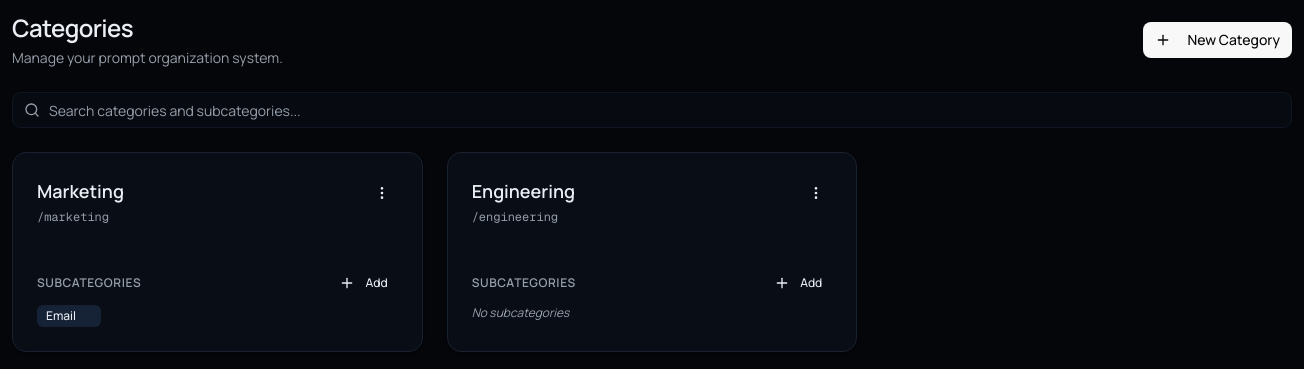
Test: /dashboard/categories › renders categories and filters by search across categories and subcategories
The image size is (1304, 369).
Expected: the link "Marketing" is shown, [37,177,124,205]
Expected: the link "Engineering" is shown, [472,177,575,205]
Type "email" into the field with placeholder "Search categories and subcategories..." at (652, 110), box [12,92,1292,128]
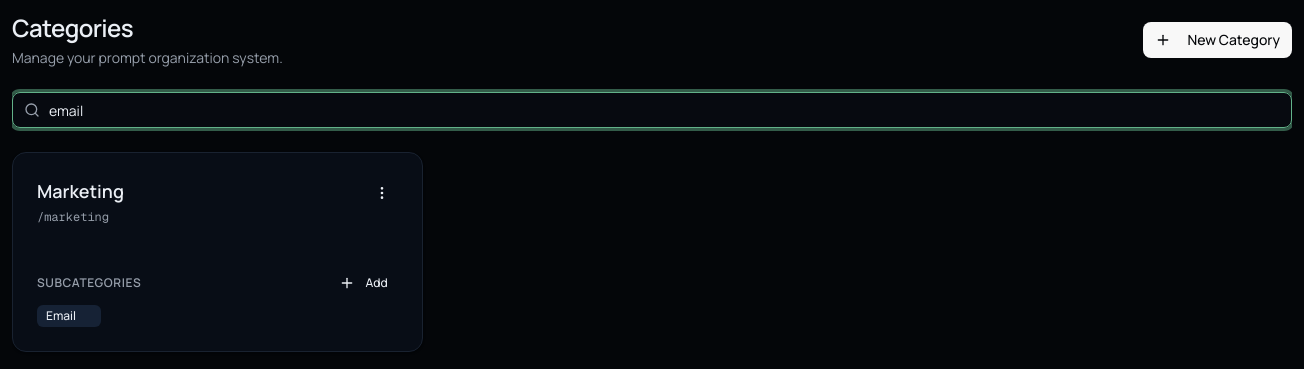
Expected: the link "Marketing" is shown, [37,177,124,205]
Now the link "Engineering" is gone
